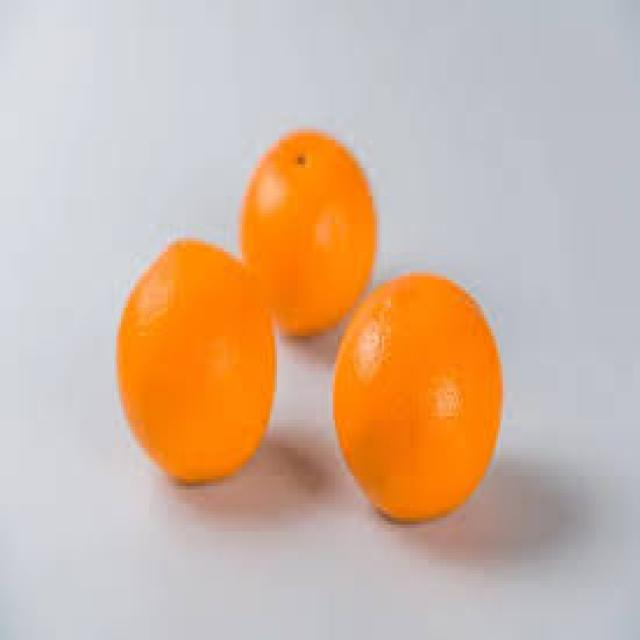orange: (332, 268, 503, 522), (114, 236, 279, 487), (238, 126, 376, 338)
